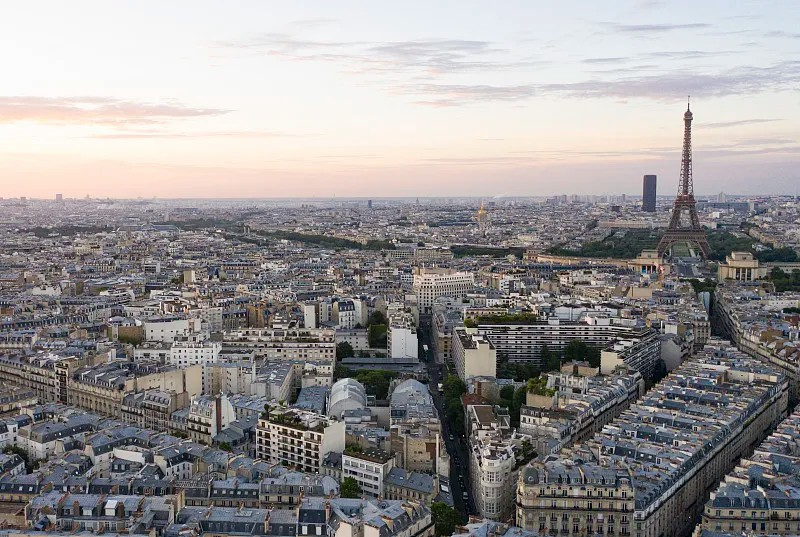Eiffel: (656, 95, 712, 263)
